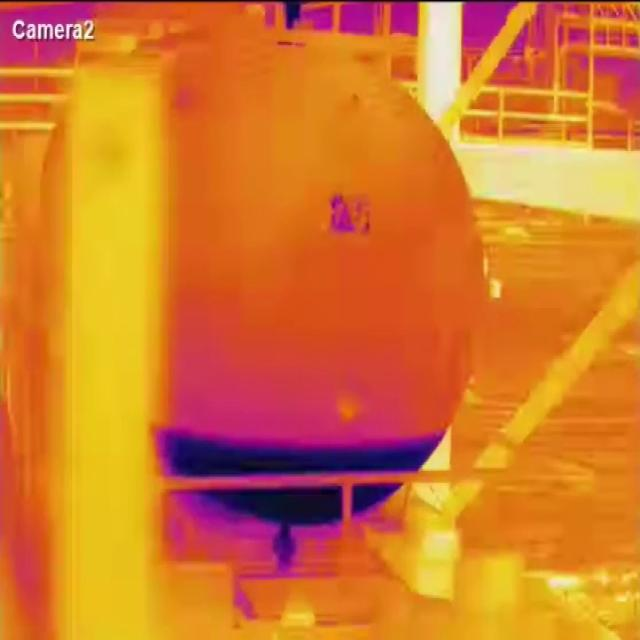tank: (158, 44, 484, 527)
